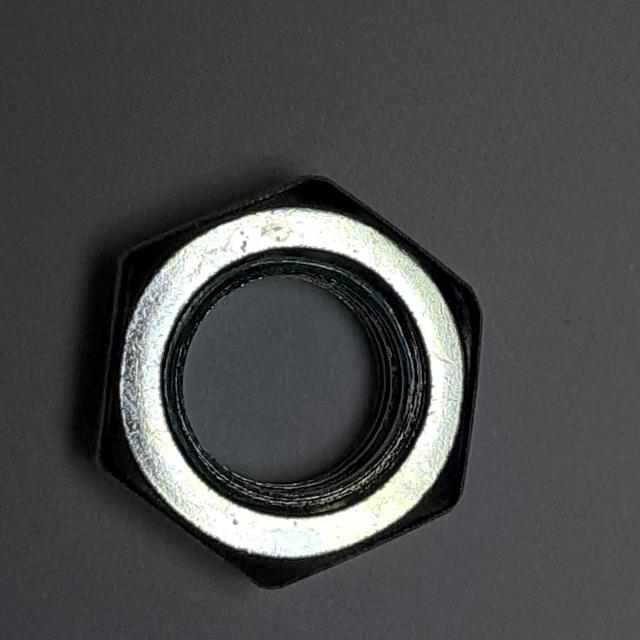Excellent: (83, 166, 492, 606)
